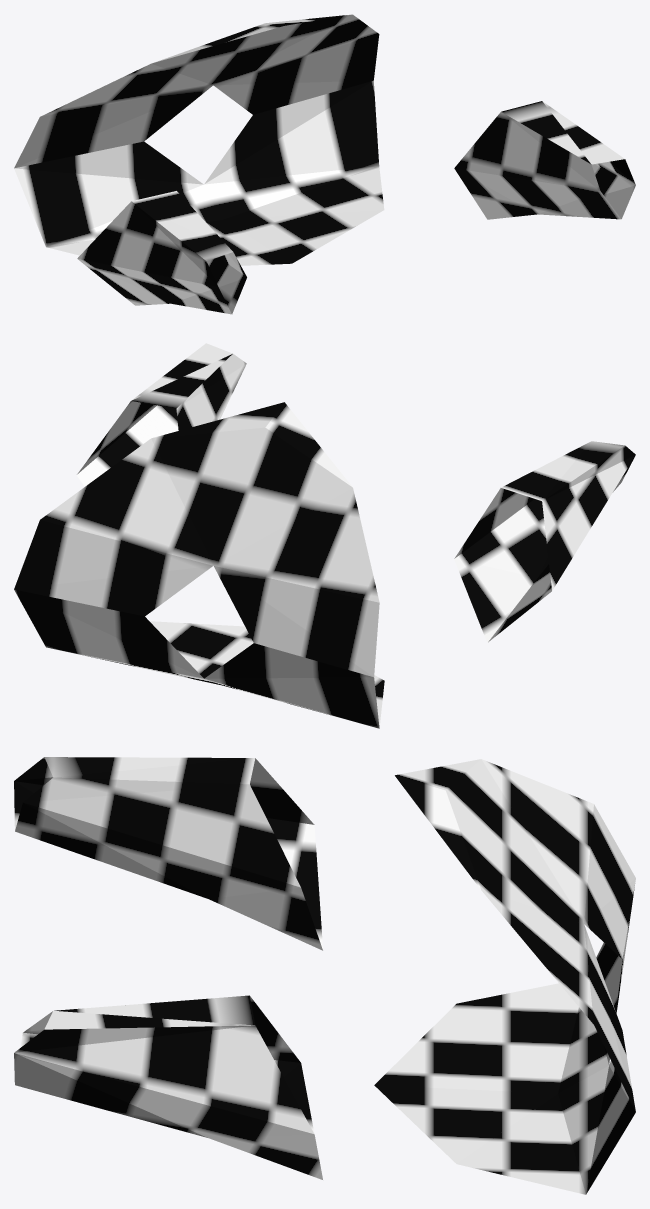
Rendered from initarpl7.dae.
3 renders of one model, top to bottom at view 1: azimuth 30°, elevation 25°; view 2: azimuth 150°, elevation 25°; view 3: azimuth 270°, elevation 25°, orthographic. The views are drawn at different scales.
Visible parts, largest first — view 1: armor; view 2: armor; view 3: armor.
Boxes of the visible parts, x1,y1,x2,y2 form: armor: [14, 14, 635, 314]; armor: [14, 343, 635, 728]; armor: [14, 757, 635, 1194].
Bounding box in the file's own units: 1.66 × 1.41 × 0.7966.
Materials: 1 (1 with a texture image).
